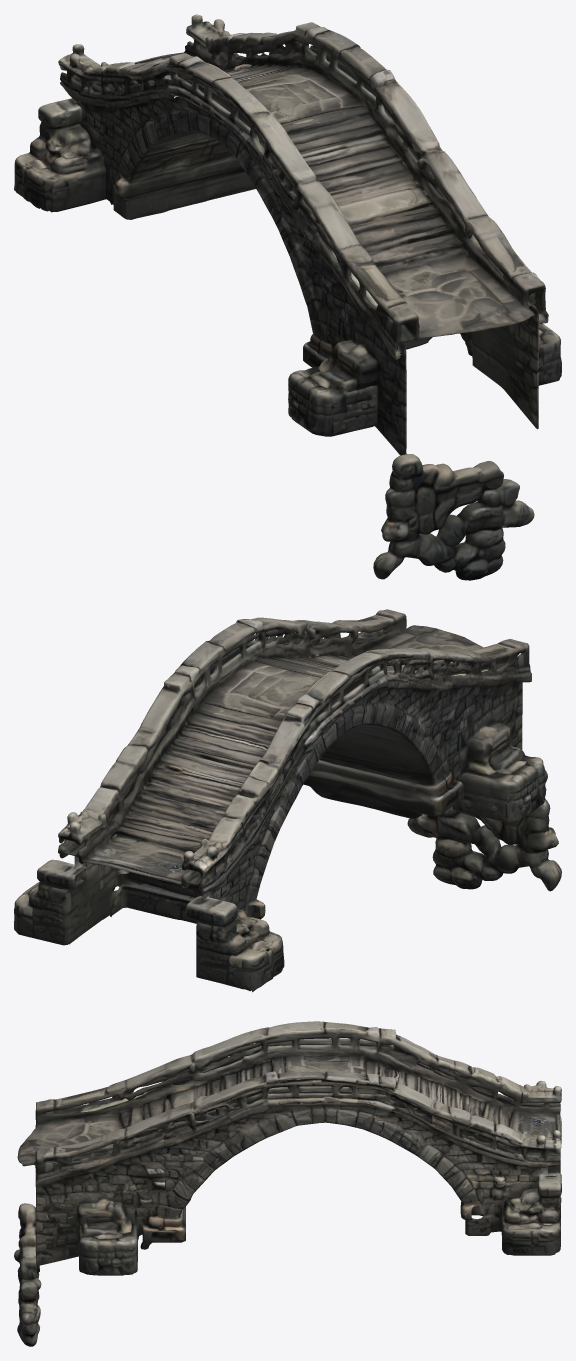
The model's file is plaza-bridge-arch.glb.
The picture shows the model from 3 angles, top to bottom: view 1: azimuth 30°, elevation 25°; view 2: azimuth 150°, elevation 25°; view 3: azimuth 270°, elevation 25°; orthographic projection. The views are drawn at different scales.
Visible parts, largest first — view 1: tripo_node_b874ca5a-3526-4047-a09f-b57573740fac; view 2: tripo_node_b874ca5a-3526-4047-a09f-b57573740fac; view 3: tripo_node_b874ca5a-3526-4047-a09f-b57573740fac.
Part boxes in pixels (x1,y1,x2,y2): tripo_node_b874ca5a-3526-4047-a09f-b57573740fac: [14, 14, 561, 580]; tripo_node_b874ca5a-3526-4047-a09f-b57573740fac: [14, 609, 561, 992]; tripo_node_b874ca5a-3526-4047-a09f-b57573740fac: [14, 1021, 561, 1346].
Size of the model in its own units: 2.86 by 4 by 6.79.
Materials: 1 (1 with a texture image).
